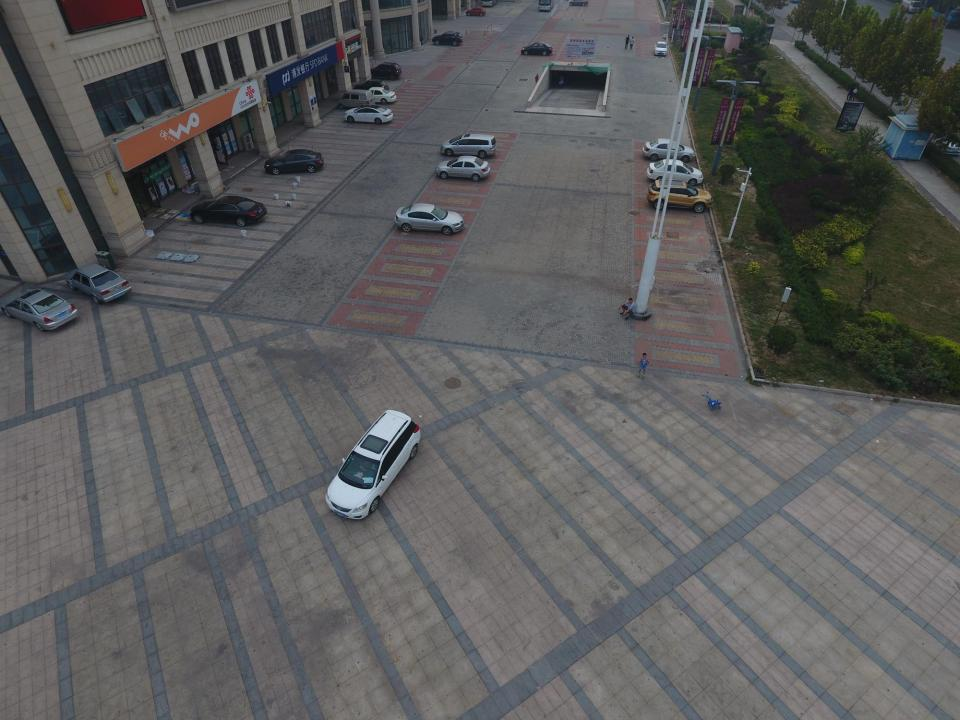bus: (538, 0, 554, 11)
car: (0, 288, 78, 331), (64, 263, 131, 304), (189, 196, 267, 226), (394, 203, 464, 235), (264, 149, 324, 175), (647, 159, 703, 186), (435, 156, 490, 182), (642, 138, 696, 162), (344, 104, 392, 124), (358, 87, 397, 104), (521, 42, 553, 56), (654, 41, 669, 56), (466, 6, 486, 16), (567, 0, 588, 6)
van: (325, 410, 421, 519), (646, 180, 712, 213), (440, 134, 496, 158), (337, 90, 375, 110), (364, 62, 402, 80), (354, 78, 389, 94), (432, 31, 463, 46)
